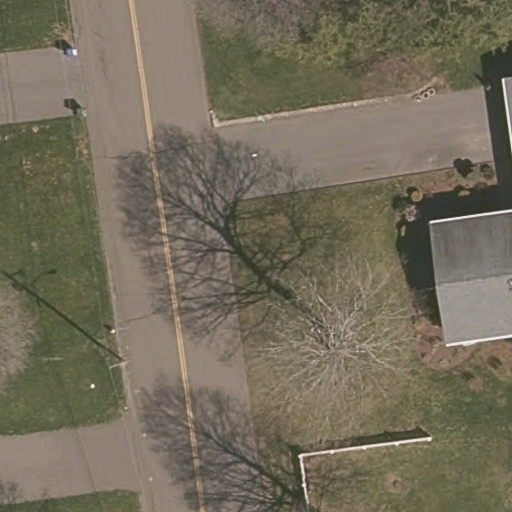DT: (104, 359, 131, 373)
